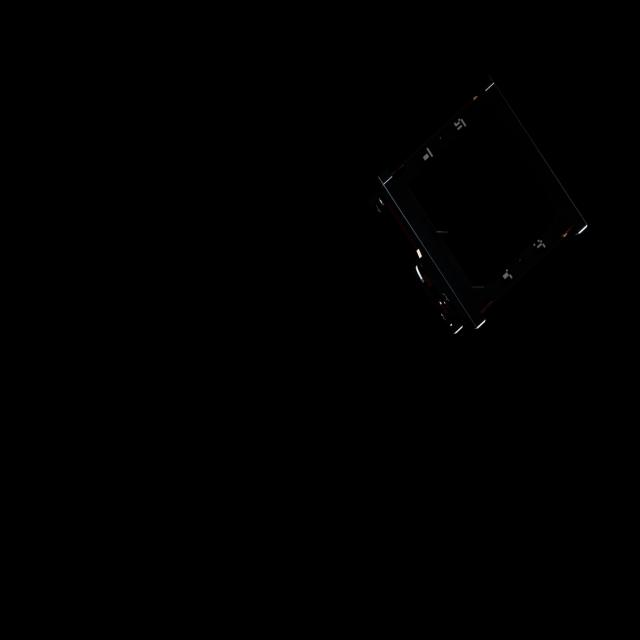medium_debris: (363, 72, 604, 345)
